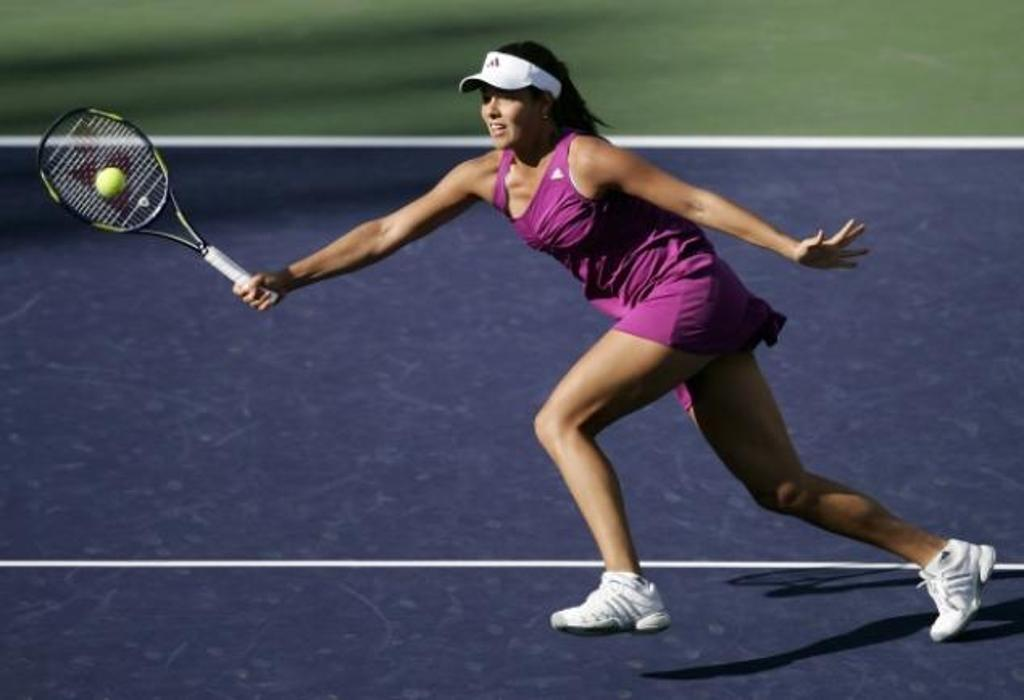face: (478, 76, 540, 150)
